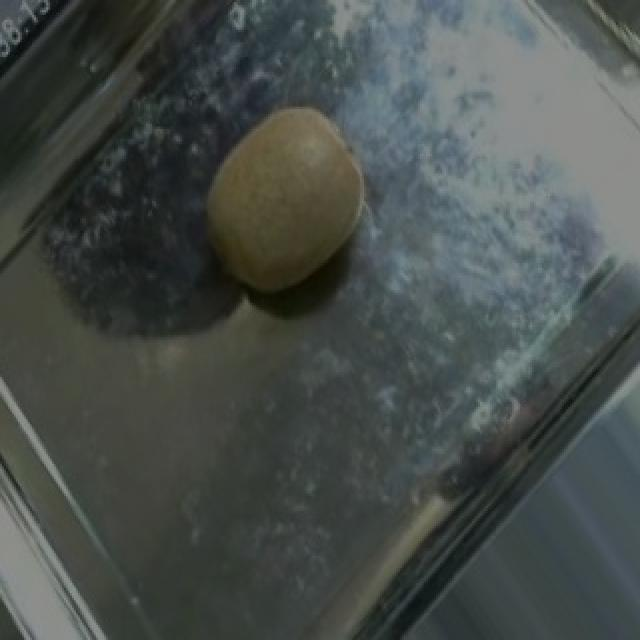Fruit: (166, 79, 396, 320)
